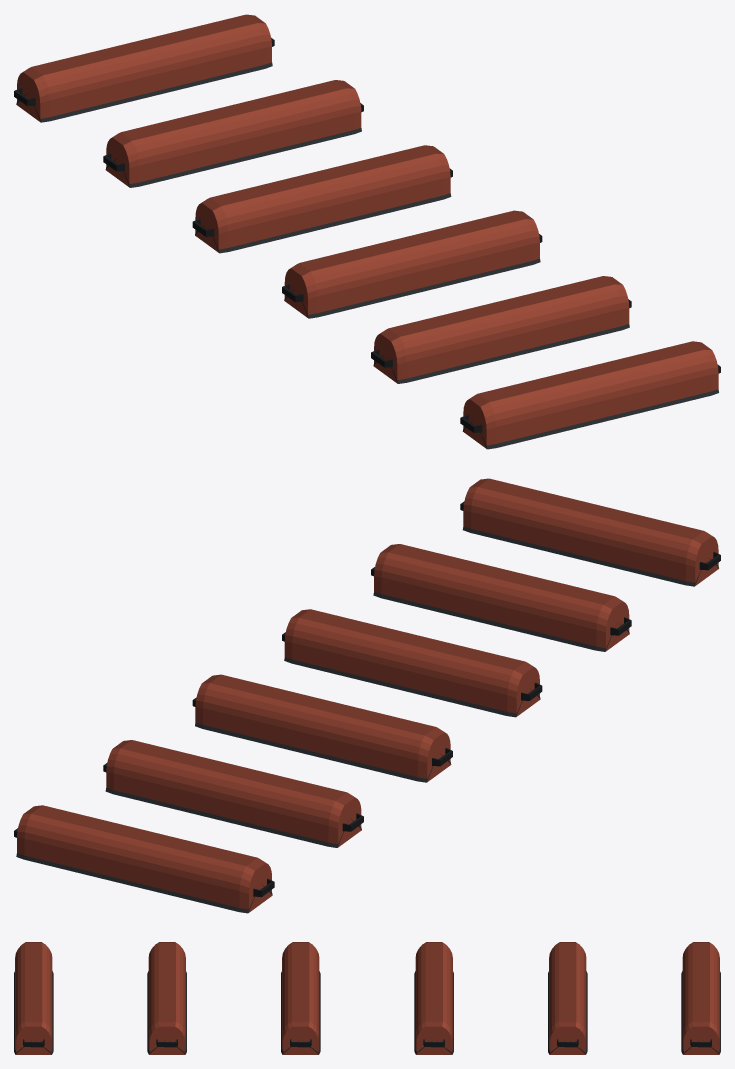
The model's file is agility-bag-set-e25fcd.glb.
3 renders of one model, top to bottom at view 1: azimuth 30°, elevation 25°; view 2: azimuth 150°, elevation 25°; view 3: azimuth 270°, elevation 25°, orthographic. The views are drawn at different scales.
Parts seen in each view (by area): view 1: agility-bags; view 2: agility-bags; view 3: agility-bags.
Part boxes in pixels (left/top/right/bottom): agility-bags: left=14, top=14, right=720, bottom=449; agility-bags: left=14, top=478, right=720, bottom=913; agility-bags: left=14, top=942, right=720, bottom=1054.
Bounding box in the file's own units: 1.6 × 0.25 × 5.3.
